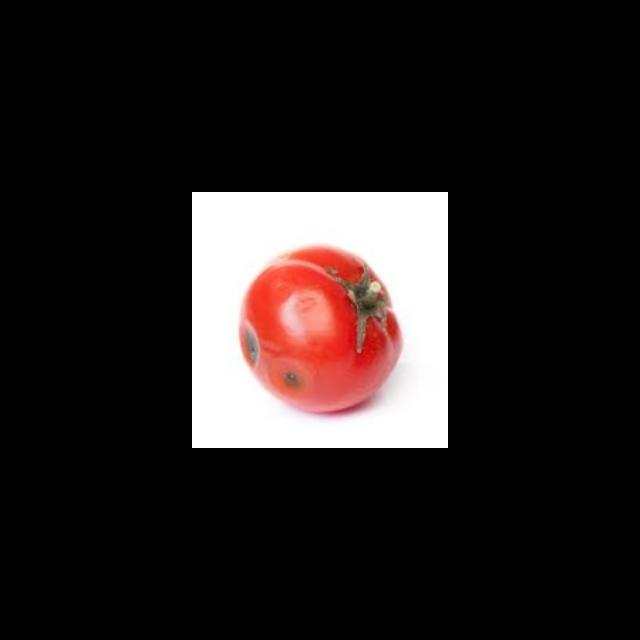tomato: (235, 242, 409, 416)
